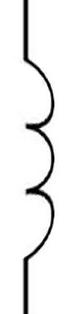inductor: (9, 49, 57, 275)
